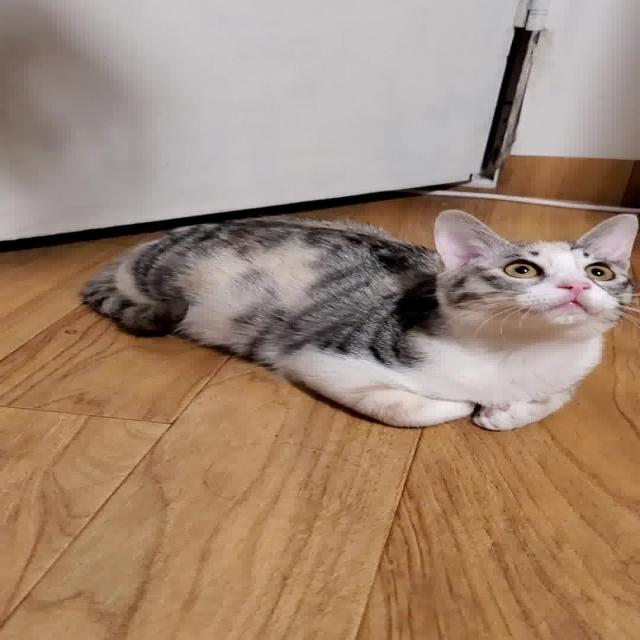cat: (72, 188, 640, 439)
